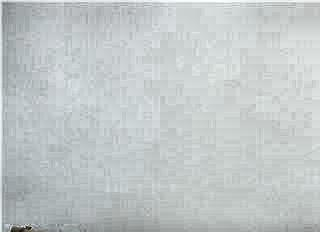tanks: (13, 227, 48, 232)
